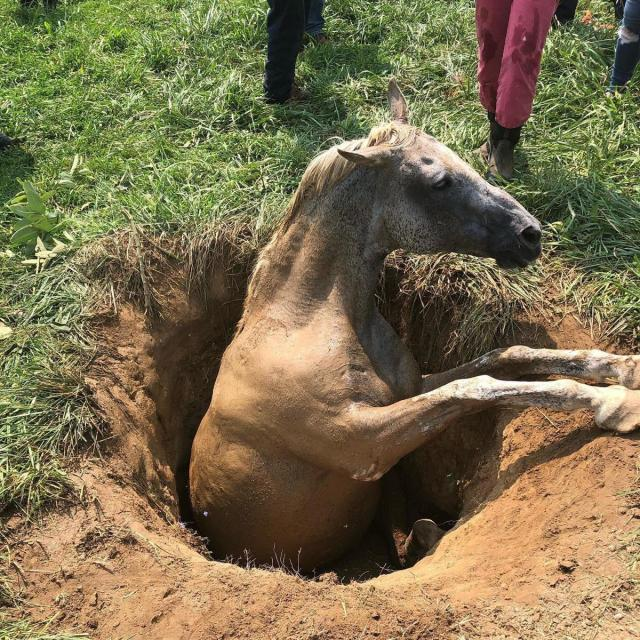horse: (204, 135, 636, 554)
